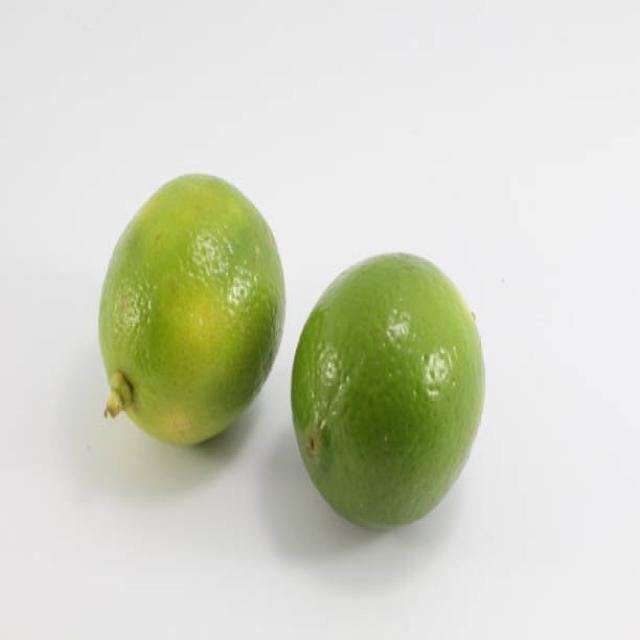Lemon: (290, 249, 484, 528), (98, 169, 287, 448)
